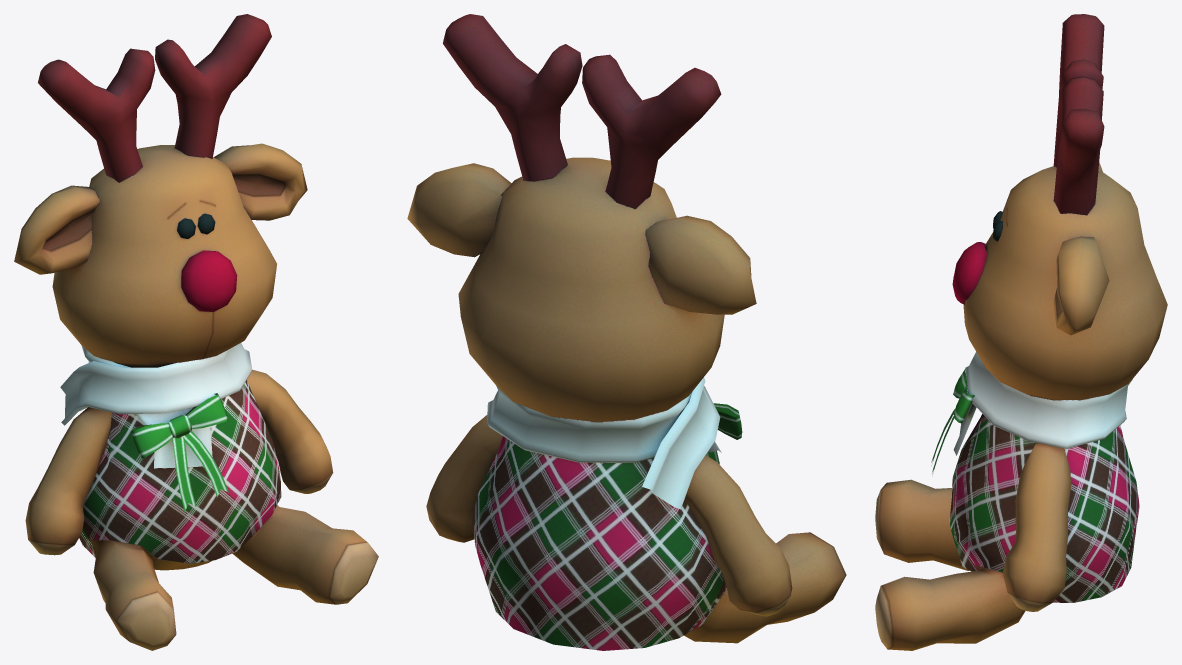
File: teddies1.fbx
The picture shows the model from 3 angles, left to right: view 1: azimuth 30°, elevation 25°; view 2: azimuth 150°, elevation 25°; view 3: azimuth 270°, elevation 25°; orthographic projection. The views are drawn at different scales.
Visible parts, largest first — view 1: Reno_LOD1; view 2: Reno_LOD1; view 3: Reno_LOD1.
Boxes of the visible parts, box(x1,y1,x2,y2) form: Reno_LOD1: box(14, 14, 378, 650); Reno_LOD1: box(407, 14, 846, 650); Reno_LOD1: box(875, 14, 1167, 650).
Bounding box in the file's own units: 41.27 × 33.67 × 68.61.
